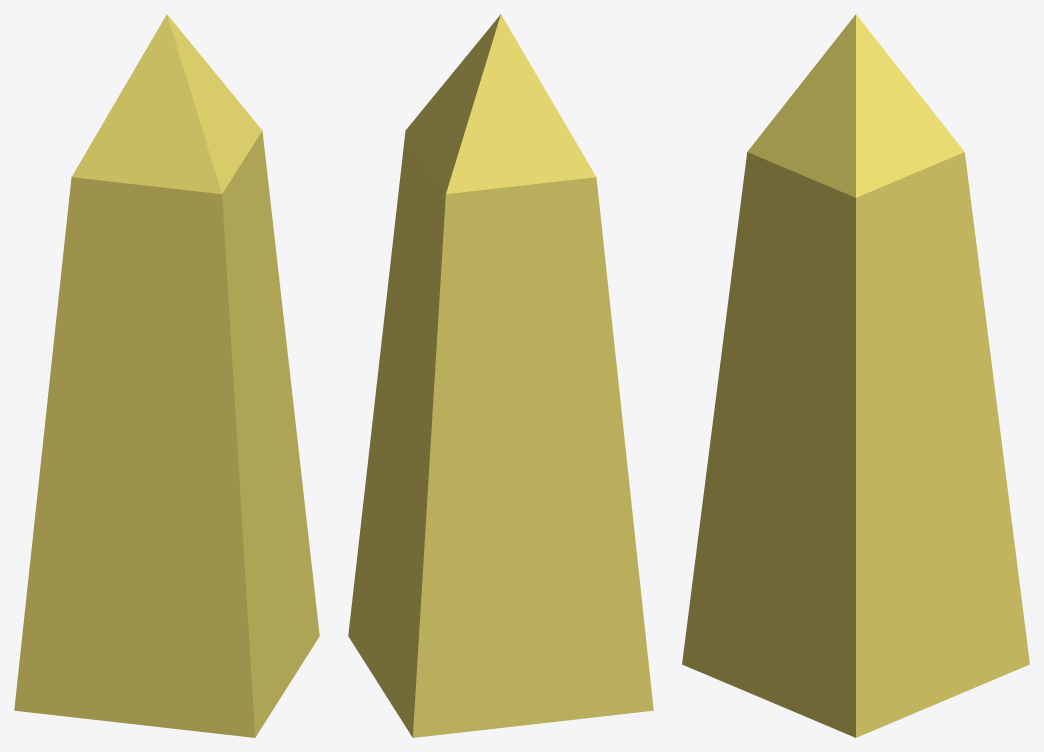
Rendered from obelisk.glb.
The picture shows the model from 3 angles, left to right: view 1: azimuth 30°, elevation 25°; view 2: azimuth 150°, elevation 25°; view 3: azimuth 270°, elevation 25°; orthographic projection.
Size of the model in its own units: 16 by 33 by 16.
